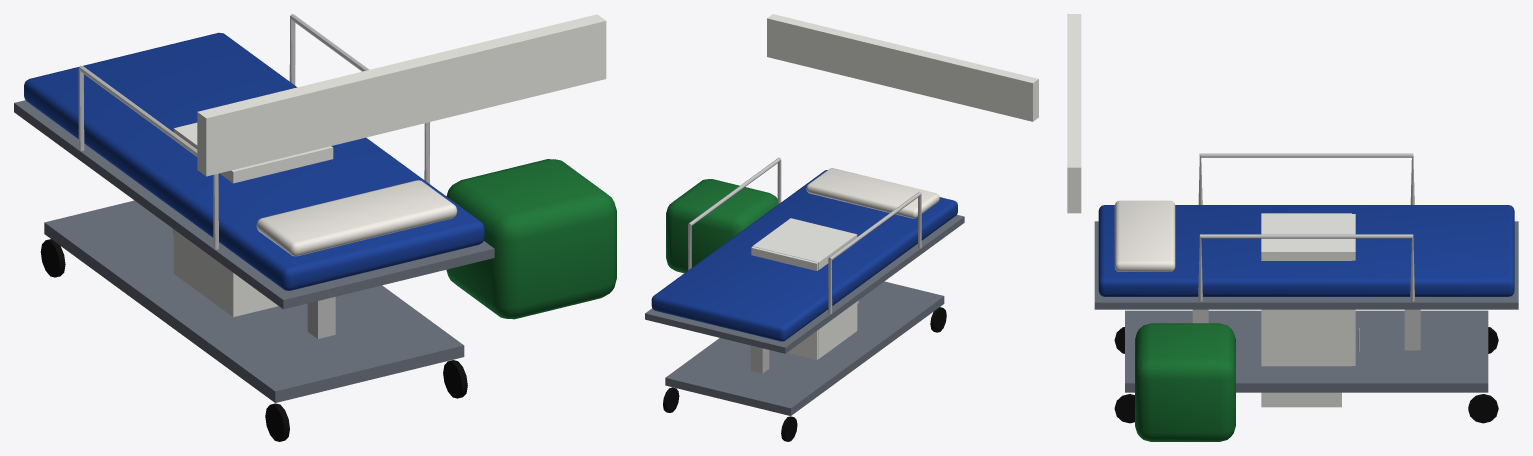
Rendered from hospital.bed.ward_bay.glb.
3 views of the same model, side by side, from view 1: azimuth 30°, elevation 25°; view 2: azimuth 150°, elevation 25°; view 3: azimuth 270°, elevation 25° (orthographic). The views are drawn at different scales.
Parts seen in each view (by area): view 1: soft__plastic_blue, frame__steel_painted, main__paint_white, main__plastic_green, soft__fabric_white, main__laminate_white, main__steel_stainless, frame__rubber, frame__steel_stainless; view 2: soft__plastic_blue, frame__steel_painted, main__paint_white, main__plastic_green, main__laminate_white, soft__fabric_white, main__steel_stainless, frame__rubber, frame__steel_stainless; view 3: soft__plastic_blue, frame__steel_painted, main__plastic_green, main__laminate_white, soft__fabric_white, main__steel_stainless, main__paint_white, frame__rubber, frame__steel_stainless.
Part boxes in pixels (left/top/right/bottom): soft__plastic_blue: left=24, top=32, right=484, bottom=290; frame__steel_painted: left=14, top=100, right=494, bottom=402; main__paint_white: left=197, top=14, right=606, bottom=176; main__plastic_green: left=446, top=159, right=616, bottom=319; soft__fabric_white: left=256, top=180, right=457, bottom=256; main__laminate_white: left=173, top=122, right=333, bottom=317; main__steel_stainless: left=78, top=14, right=429, bottom=249; frame__rubber: left=40, top=239, right=467, bottom=441; frame__steel_stainless: left=173, top=229, right=335, bottom=338; soft__plastic_blue: left=651, top=170, right=957, bottom=341; frame__steel_painted: left=645, top=215, right=964, bottom=415; main__paint_white: left=767, top=14, right=1038, bottom=121; main__plastic_green: left=666, top=179, right=777, bottom=273; main__laminate_white: left=751, top=218, right=857, bottom=359; soft__fabric_white: left=806, top=168, right=939, bottom=218; main__steel_stainless: left=688, top=157, right=921, bottom=314; frame__rubber: left=663, top=307, right=946, bottom=441; frame__steel_stainless: left=750, top=300, right=858, bottom=373; soft__plastic_blue: left=1098, top=205, right=1514, bottom=296; frame__steel_painted: left=1094, top=221, right=1518, bottom=392; main__plastic_green: left=1135, top=323, right=1235, bottom=441; main__laminate_white: left=1261, top=213, right=1355, bottom=407; soft__fabric_white: left=1114, top=200, right=1175, bottom=271; main__steel_stainless: left=1198, top=153, right=1414, bottom=351; main__paint_white: left=1067, top=14, right=1081, bottom=213; frame__rubber: left=1114, top=327, right=1498, bottom=423; frame__steel_stainless: left=1192, top=309, right=1420, bottom=350.
Size of the model in its own units: 2.07 by 1.62 by 2.23.
